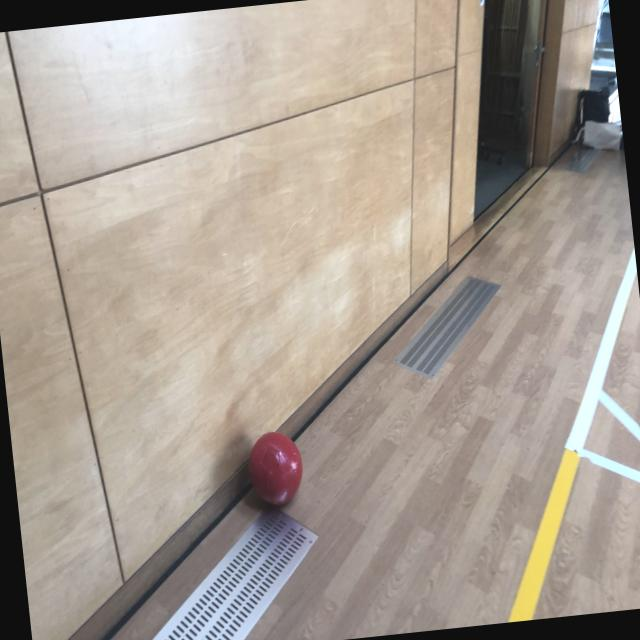red_ball: (246, 427, 304, 509)
